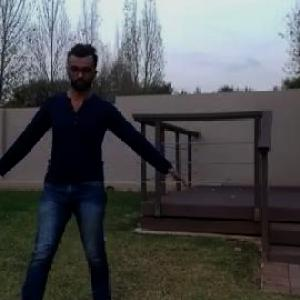land: (9, 60, 152, 299)
